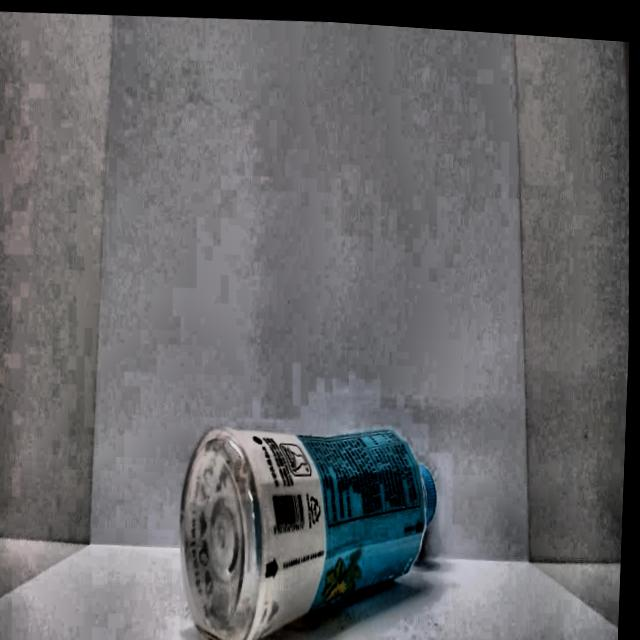Bottles: (160, 348, 494, 640)
